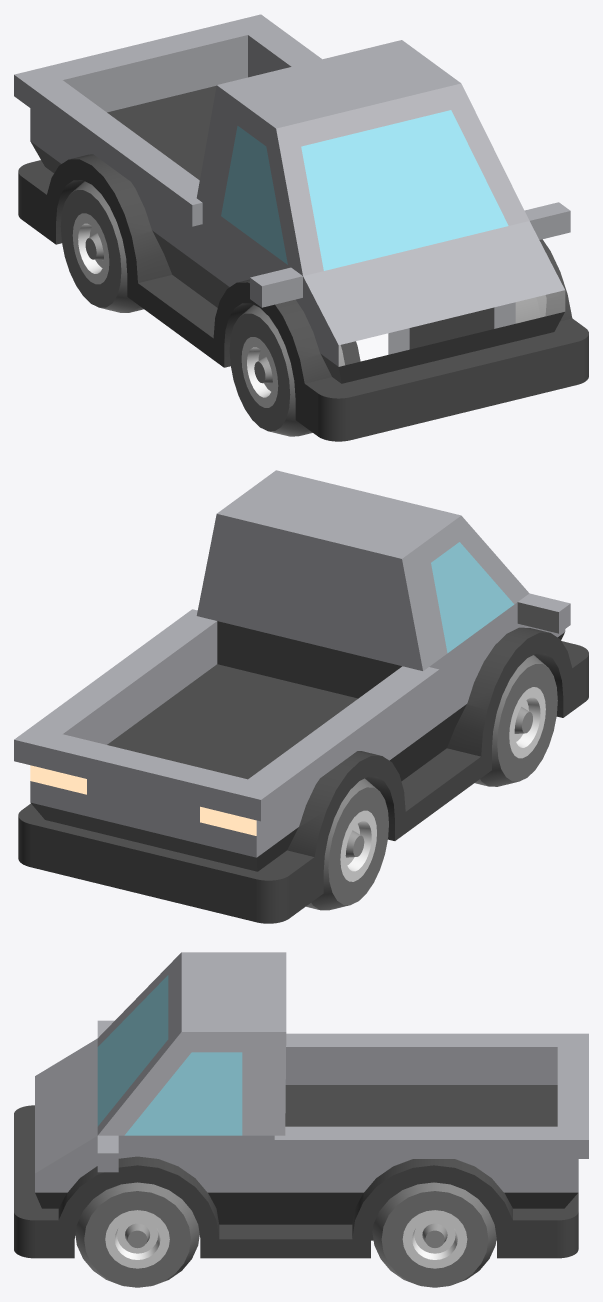
The picture shows the model from 3 angles, top to bottom: view 1: azimuth 30°, elevation 25°; view 2: azimuth 150°, elevation 25°; view 3: azimuth 270°, elevation 25°; orthographic projection. The views are drawn at different scales.
Parts seen in each view (by area): view 1: body, wheel_frontRight, wheel_backRight, wheel_frontLeft; view 2: body, wheel_frontRight, wheel_backRight; view 3: body, wheel_frontLeft, wheel_backLeft.
Boxes of the visible parts, left/top/right/bottom form: body: left=14, top=14, right=588, bottom=441; wheel_frontRight: left=229, top=304, right=344, bottom=436; wheel_backRight: left=60, top=181, right=143, bottom=312; wheel_frontLeft: left=515, top=295, right=546, bottom=323; body: left=14, top=470, right=588, bottom=923; wheel_frontRight: left=475, top=655, right=557, bottom=786; wheel_backRight: left=306, top=778, right=388, bottom=910; body: left=14, top=952, right=588, bottom=1258; wheel_frontLeft: left=75, top=1182, right=199, bottom=1287; wheel_backLeft: left=372, top=1182, right=496, bottom=1287.
Size of the model in its own units: 1.5 by 1.3 by 2.75.
